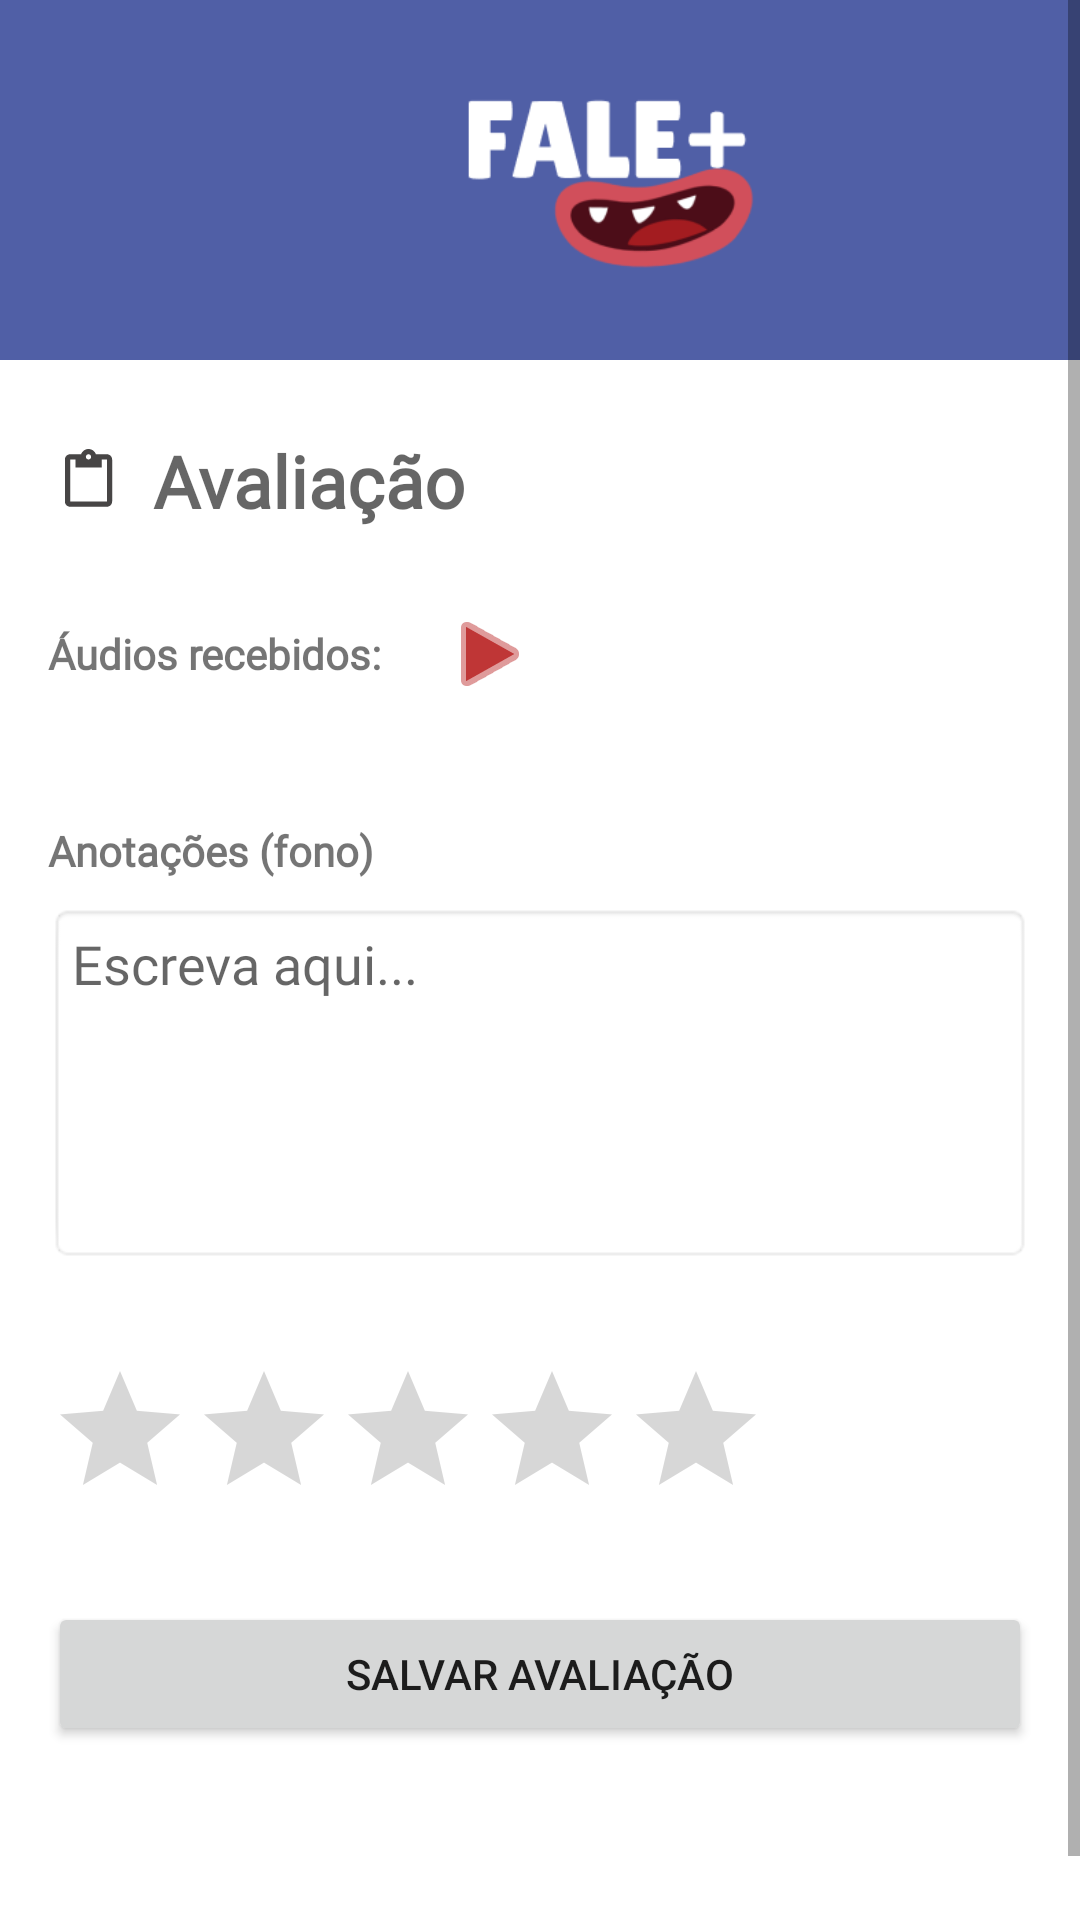

Locate icon controls on the screen. Image size 1080 × 1920, boxes as (x1=x1, y1=y1, x2=x2, y2=y2).
play: (x1=461, y1=622, x2=519, y2=686)
